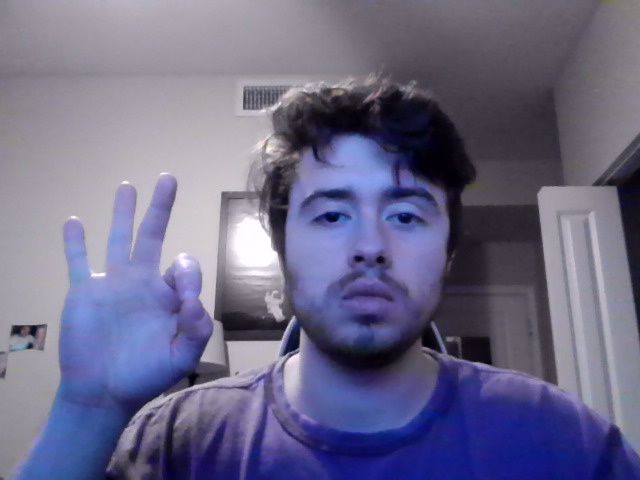f: (57, 171, 214, 431)
